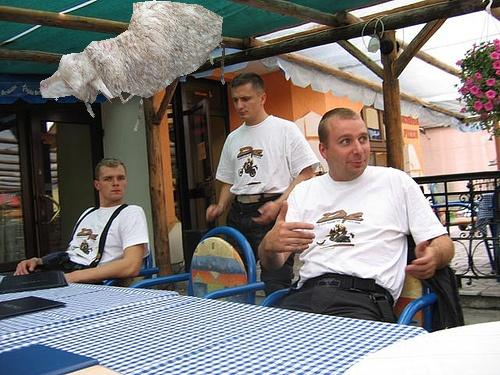tampered: (40, 1, 225, 131)
